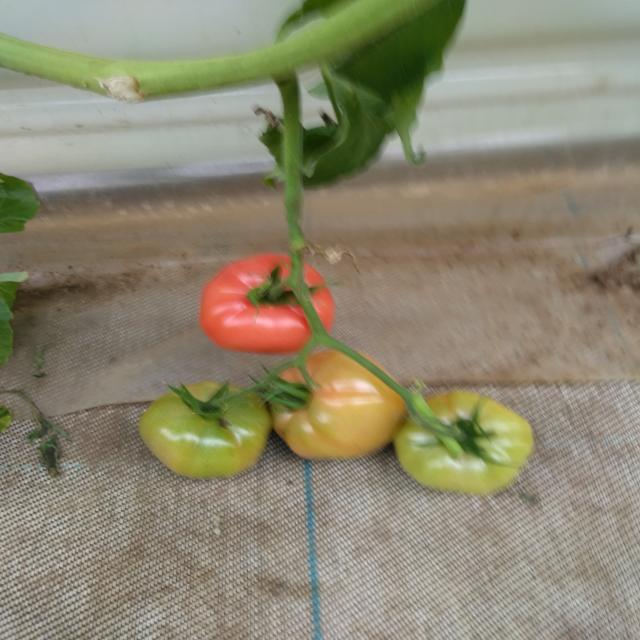n-half-riped: (268, 350, 411, 460)
n-riped: (198, 254, 336, 356)
n-unriped: (392, 392, 532, 494), (138, 380, 271, 479)
